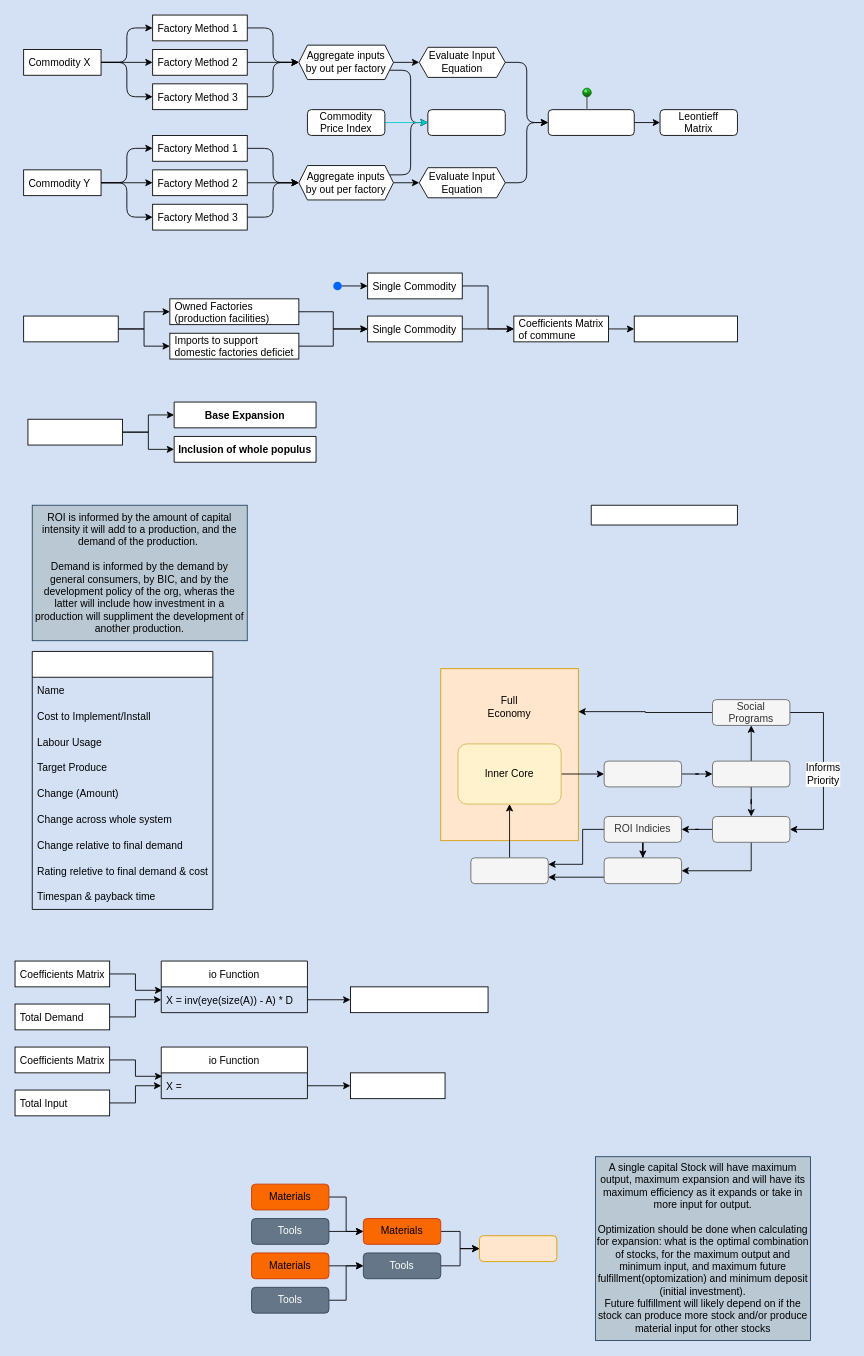
The diagram is 864 pixels wide and 1356 high, and some of its shapes have lost their labels. Here are the shapes that lost their labels. From the top down, the box of each, then its label:
(427, 109, 505, 135): Index Table
(547, 109, 634, 135): Final Coefficients Matrix
(23, 315, 118, 342): Commune (/Rep)
(633, 315, 737, 342): Commune Efficiency
(27, 418, 123, 445): Expansion/ Dev methods
(590, 504, 737, 525): SAMB Access Legacy db
(31, 651, 213, 909): ROI
(603, 760, 682, 787): Satisfy Self
(712, 760, 790, 787): Surplus goes to
(712, 816, 790, 842): Development Programs
(470, 857, 548, 884): Optimizer
(603, 857, 682, 884): Demands Surplus of x
(350, 986, 488, 1013): Total Output {required} (x)
(350, 1072, 445, 1099): Total Output (x)
(479, 1235, 557, 1262): Consumer Good
